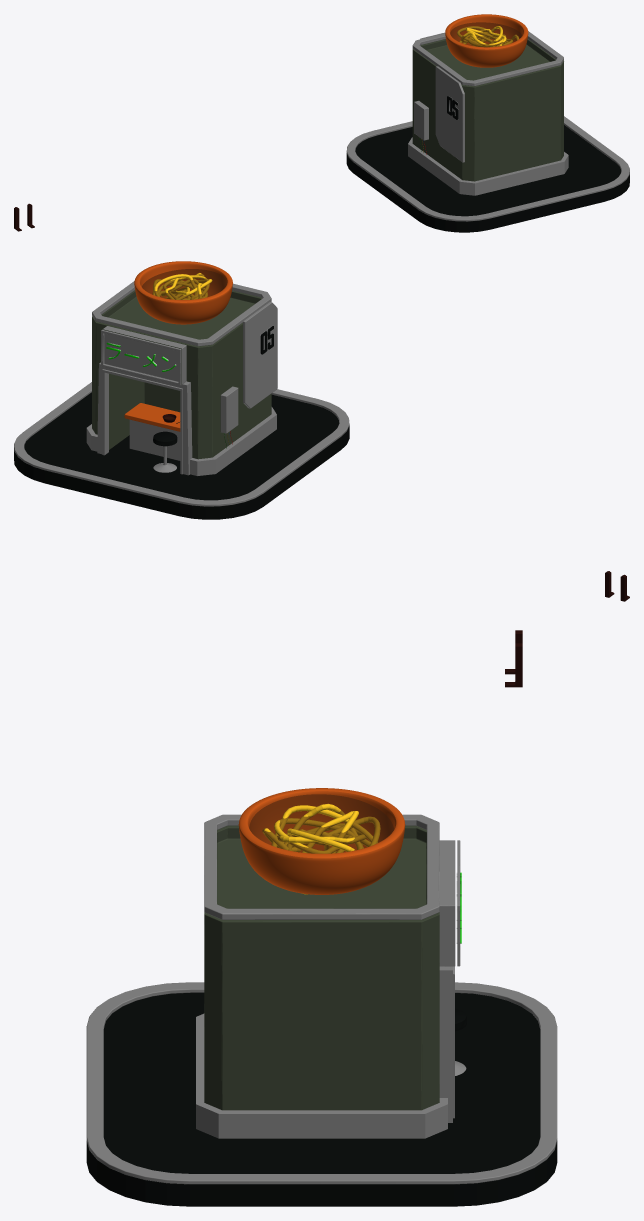
File: WIPBuilding.obj
3 views of the same model, one above another, from view 1: azimuth 30°, elevation 25°; view 2: azimuth 150°, elevation 25°; view 3: azimuth 270°, elevation 25° (orthographic). The views are drawn at different scales.
Visible parts, largest first — view 1: Cube, Plane, Plane.001, Circle, Cube.002, Circle.002, noodle; view 2: Plane, Cube, Plane.001, Circle, Cube.005, Cube.001, Cube.002, Circle.002, noodle, Cube.003, Cube.004; view 3: Cube, Plane, Plane.001, Circle, Cube.002, Circle.002, noodle, Cube.005, Cube.001.
Boxes of the visible parts, left/top/right/bottom form: Cube: left=412, top=31, right=563, bottom=181; Plane: left=346, top=125, right=629, bottom=232; Plane.001: left=346, top=66, right=629, bottom=221; Circle: left=445, top=14, right=528, bottom=67; Cube.002: left=408, top=137, right=568, bottom=195; Circle.002: left=450, top=22, right=521, bottom=47; noodle: left=457, top=26, right=518, bottom=47; Plane: left=14, top=392, right=349, bottom=519; Cube: left=92, top=281, right=271, bottom=459; Plane.001: left=14, top=302, right=349, bottom=506; Circle: left=134, top=261, right=232, bottom=324; Cube.005: left=101, top=326, right=186, bottom=385; Cube.001: left=97, top=362, right=192, bottom=475; Cube.002: left=86, top=407, right=276, bottom=475; Circle.002: left=142, top=269, right=226, bottom=299; noodle: left=152, top=273, right=212, bottom=299; Cube.003: left=129, top=419, right=180, bottom=460; Cube.004: left=124, top=403, right=180, bottom=431; Cube: left=204, top=814, right=439, bottom=1110; Plane: left=86, top=992, right=557, bottom=1206; Plane.001: left=86, top=982, right=557, bottom=1184; Circle: left=238, top=788, right=405, bottom=894; Cube.002: left=196, top=1013, right=447, bottom=1138; Circle.002: left=249, top=794, right=393, bottom=853; noodle: left=262, top=803, right=380, bottom=894; Cube.005: left=439, top=840, right=460, bottom=966; Cube.001: left=439, top=966, right=454, bottom=1122.
Size of the model in its own units: 20.65 by 5.39 by 8.
